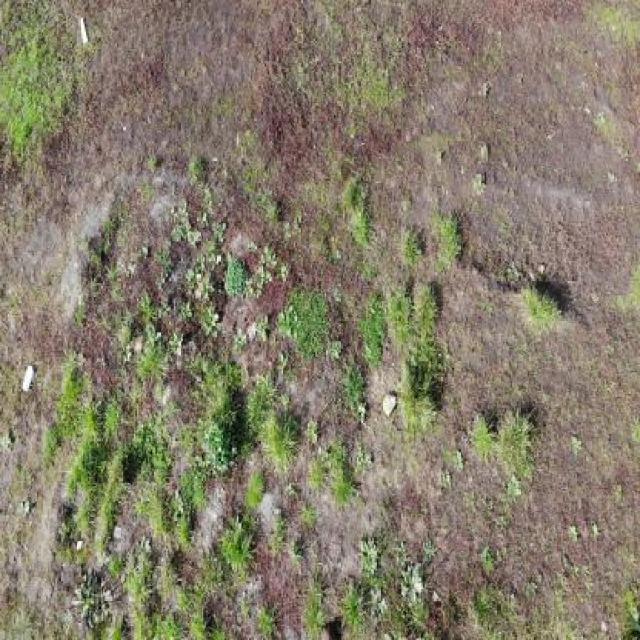Garbage: (22, 366, 35, 393), (78, 16, 88, 43)
